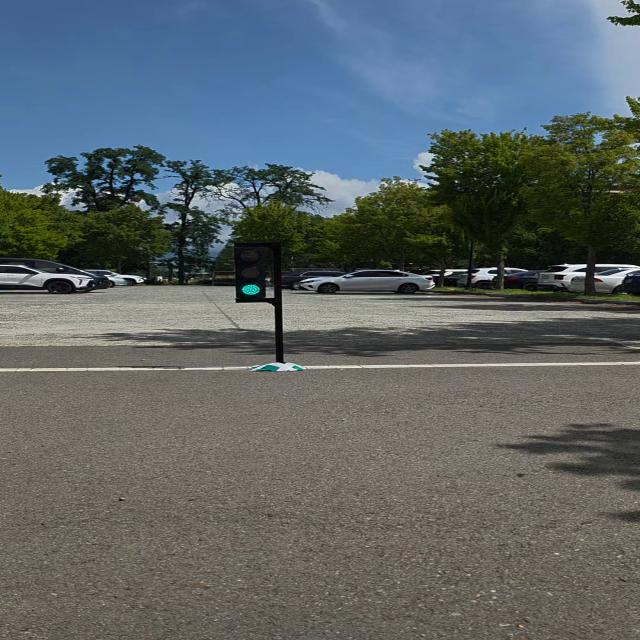green: (233, 241, 268, 303)
